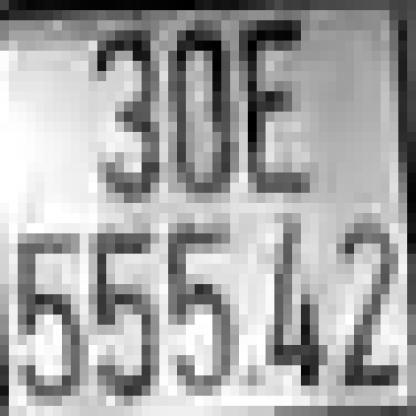0: (168, 30, 230, 193)
2: (328, 213, 390, 375)
3: (97, 30, 168, 203)
4: (257, 213, 318, 386)
5: (88, 223, 160, 396), (17, 223, 88, 396), (168, 213, 230, 386)
E: (230, 20, 301, 193)
